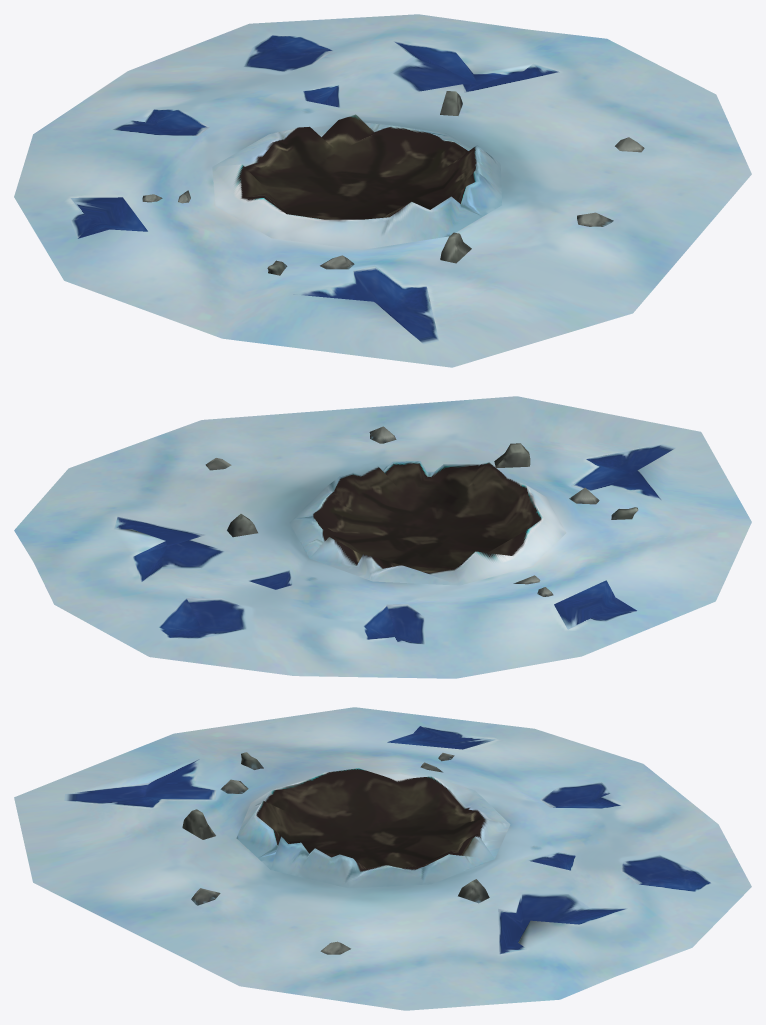
The model's file is BingKeng03.FBX.
3 views of the same model, one above another, from view 1: azimuth 30°, elevation 25°; view 2: azimuth 150°, elevation 25°; view 3: azimuth 270°, elevation 25° (orthographic). The views are drawn at different scales.
Parts seen in each view (by area): view 1: BingKeng03; view 2: BingKeng03; view 3: BingKeng03.
Boxes of the visible parts, x1=… form: BingKeng03: x1=14, y1=14, x2=751, y2=367; BingKeng03: x1=14, y1=396, x2=751, y2=678; BingKeng03: x1=14, y1=707, x2=751, y2=1010.
Bounding box in the file's own units: 371 × 22.5 × 381.
